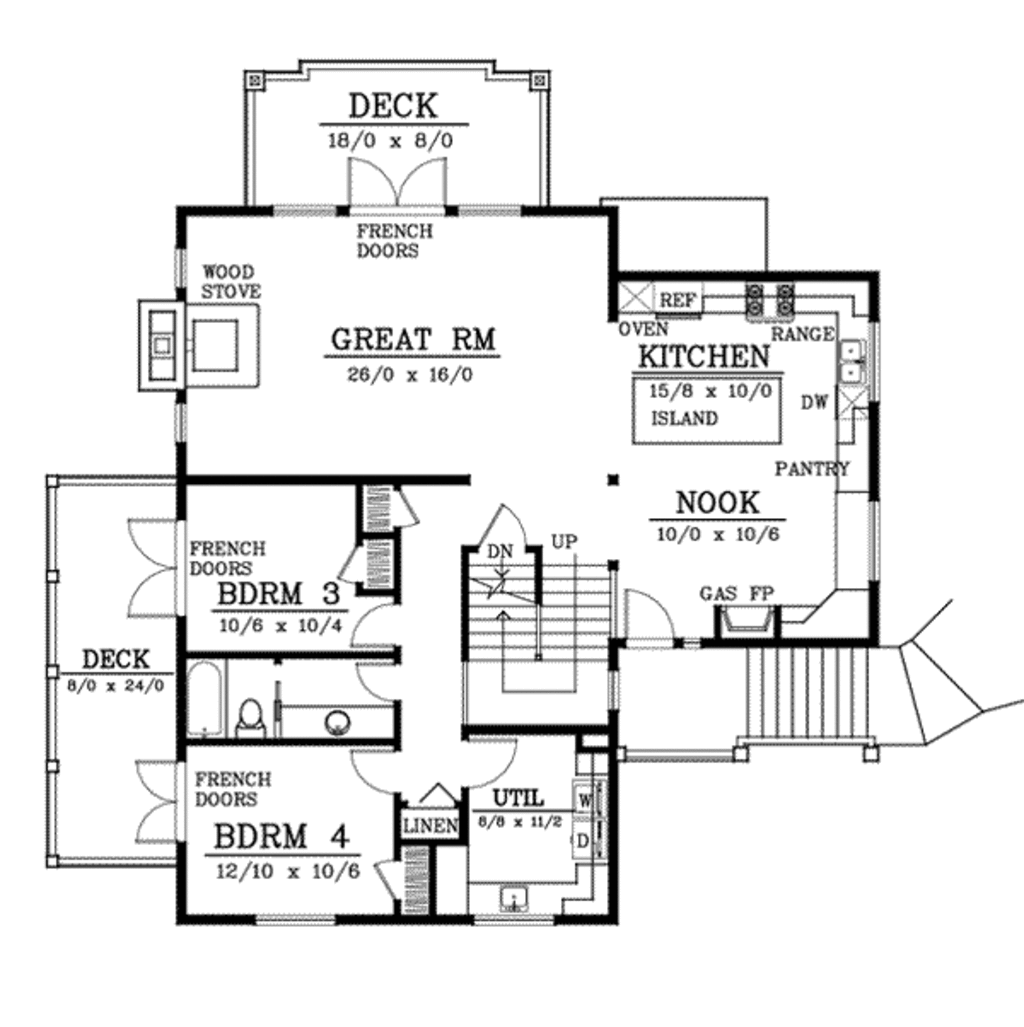door: (339, 149, 450, 223), (125, 512, 194, 619), (131, 752, 202, 848), (617, 585, 684, 659), (459, 734, 525, 793), (480, 494, 538, 555), (341, 602, 408, 651), (348, 744, 403, 799), (353, 663, 402, 704)
large_sink: (231, 690, 267, 744)
sink: (475, 877, 544, 921)
small_sink: (281, 704, 394, 748)
stairs: (741, 596, 1013, 760), (461, 544, 613, 665)
tub: (189, 662, 227, 740)
twin_sink: (830, 330, 866, 398)
window: (256, 910, 334, 930), (173, 398, 195, 448), (170, 251, 192, 301)
